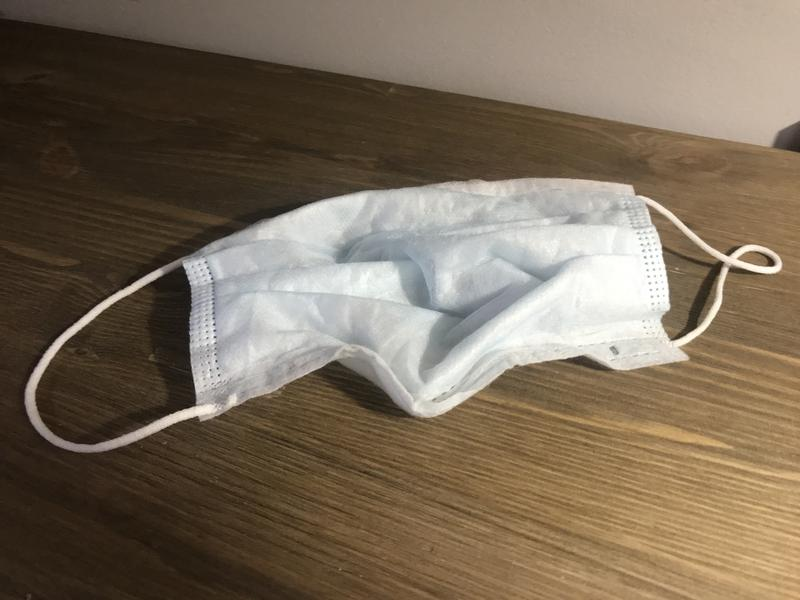medical_mask: (24, 178, 782, 454)
